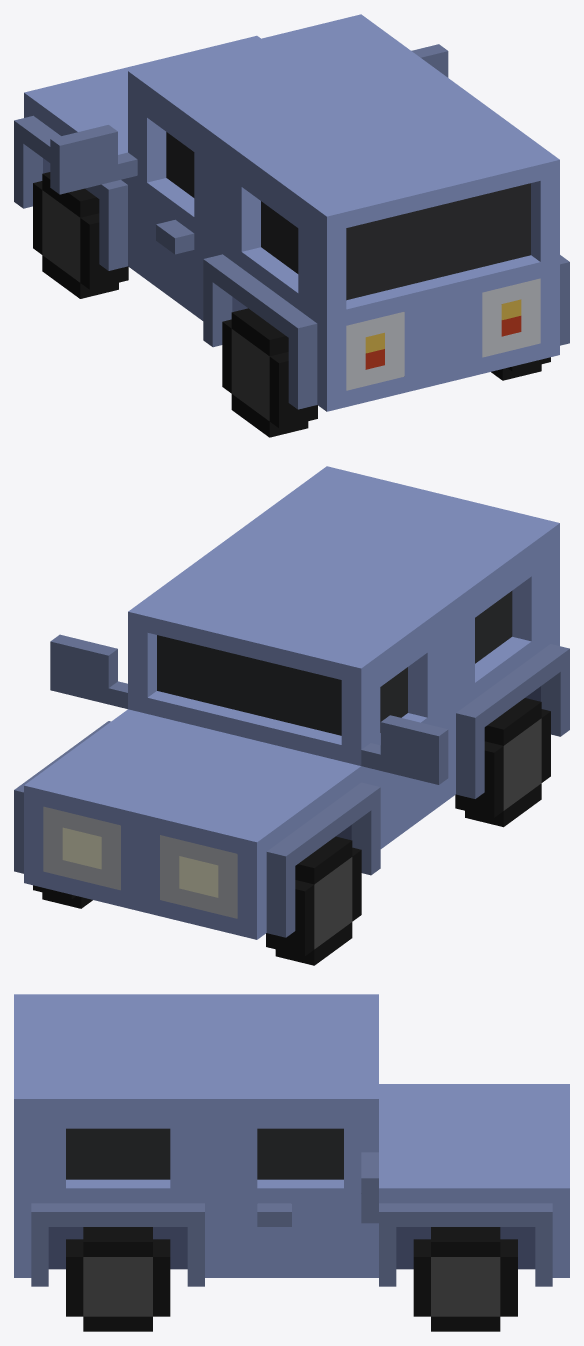
File: SUV.fbx
3 views of the same model, one above another, from view 1: azimuth 30°, elevation 25°; view 2: azimuth 150°, elevation 25°; view 3: azimuth 270°, elevation 25° (orthographic). The views are drawn at different scales.
Parts seen in each view (by area): view 1: CarTwo.001; view 2: CarTwo.001; view 3: CarTwo.001.
Boxes of the visible parts, box(x1,y1,x2,y2) form: CarTwo.001: box(14, 14, 569, 437); CarTwo.001: box(14, 466, 569, 965); CarTwo.001: box(14, 994, 569, 1331).
Bounding box in the file's own units: 305 × 183 × 411.
